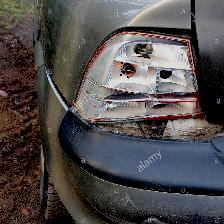tail_lamp: (82, 27, 222, 168)
